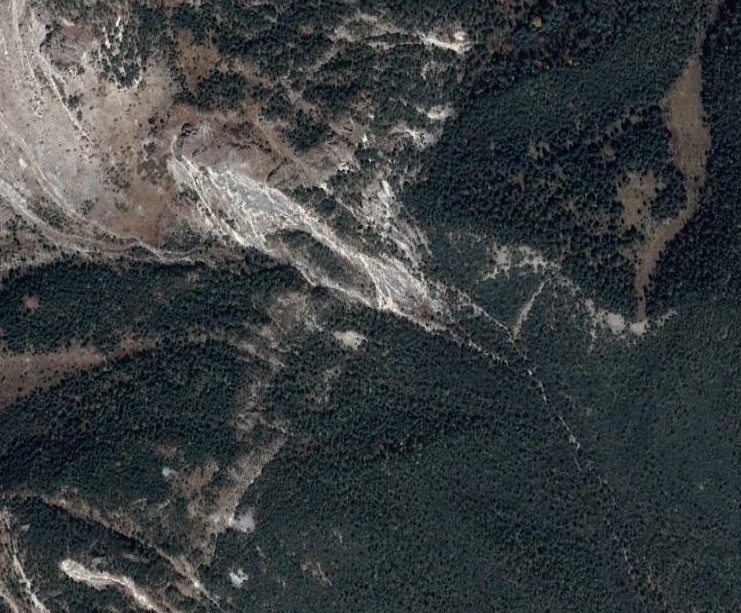slope: (160, 145, 467, 348)
